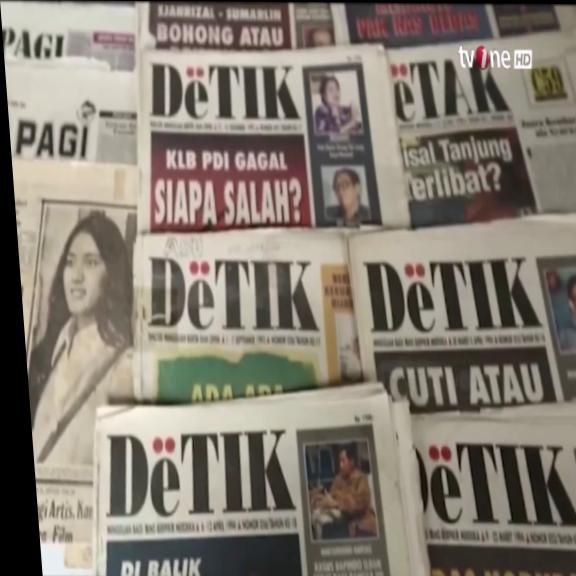Kertas: (81, 377, 421, 576), (130, 41, 402, 235), (343, 211, 576, 416), (123, 224, 360, 405), (377, 24, 576, 231), (402, 401, 576, 576)
